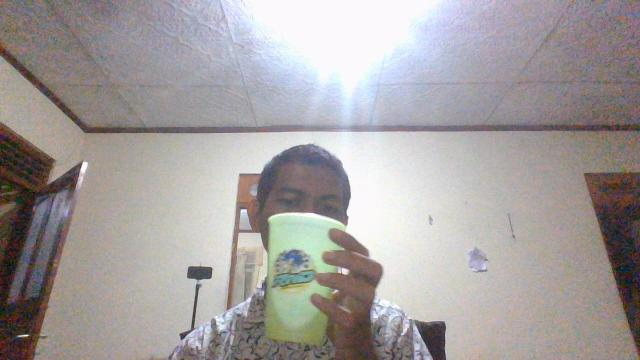botol-hijau: (262, 211, 348, 345)
